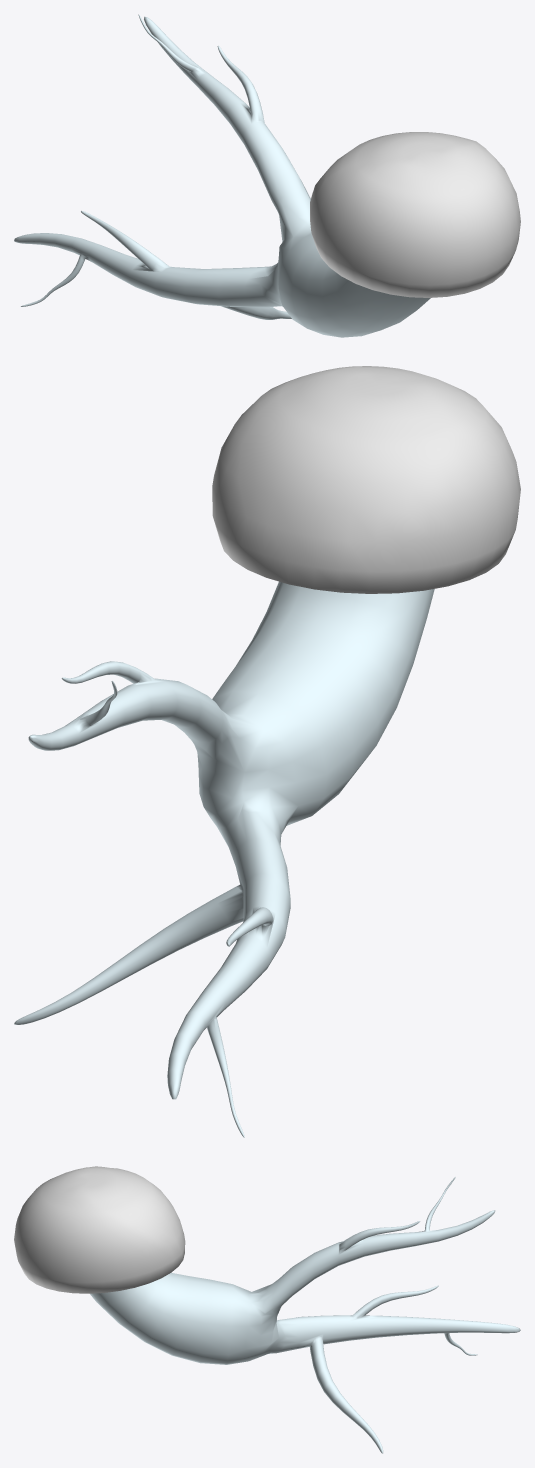
File: Pilz_01.fbx
3 renders of one model, top to bottom at view 1: azimuth 30°, elevation 25°; view 2: azimuth 150°, elevation 25°; view 3: azimuth 270°, elevation 25°, orthographic. The views are drawn at different scales.
Visible parts, largest first — view 1: Cube.001; view 2: Cube.001; view 3: Cube.001.
Boxes of the visible parts, x1,y1,x2,y2 form: Cube.001: [14, 14, 520, 337]; Cube.001: [14, 366, 520, 1137]; Cube.001: [14, 1166, 520, 1453].
Size of the model in its own units: 3.37 by 4.16 by 7.64.
